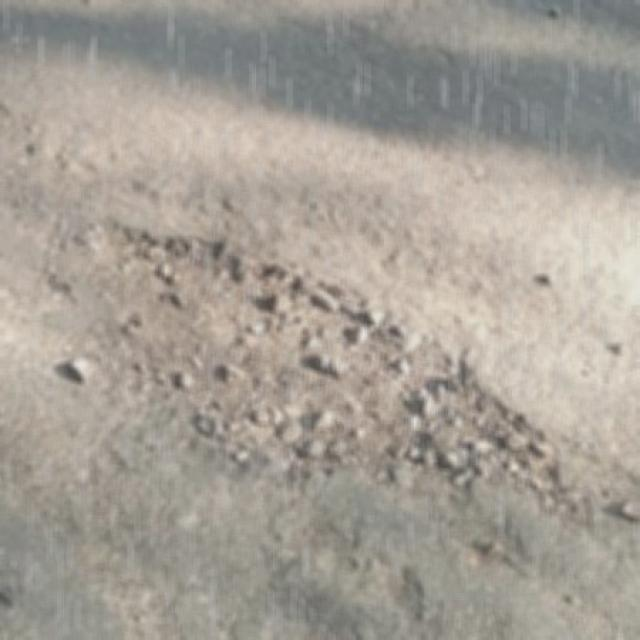road-pothole: (93, 220, 607, 505)
